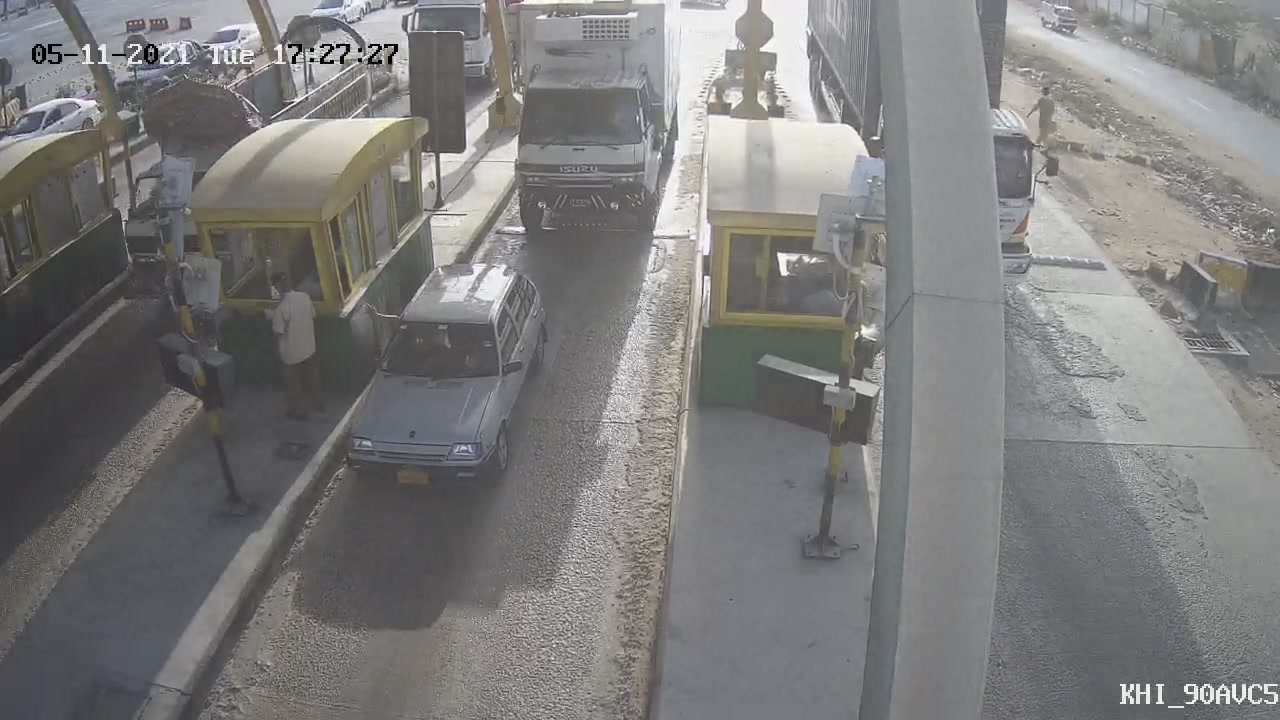F1: (328, 249, 562, 508)
